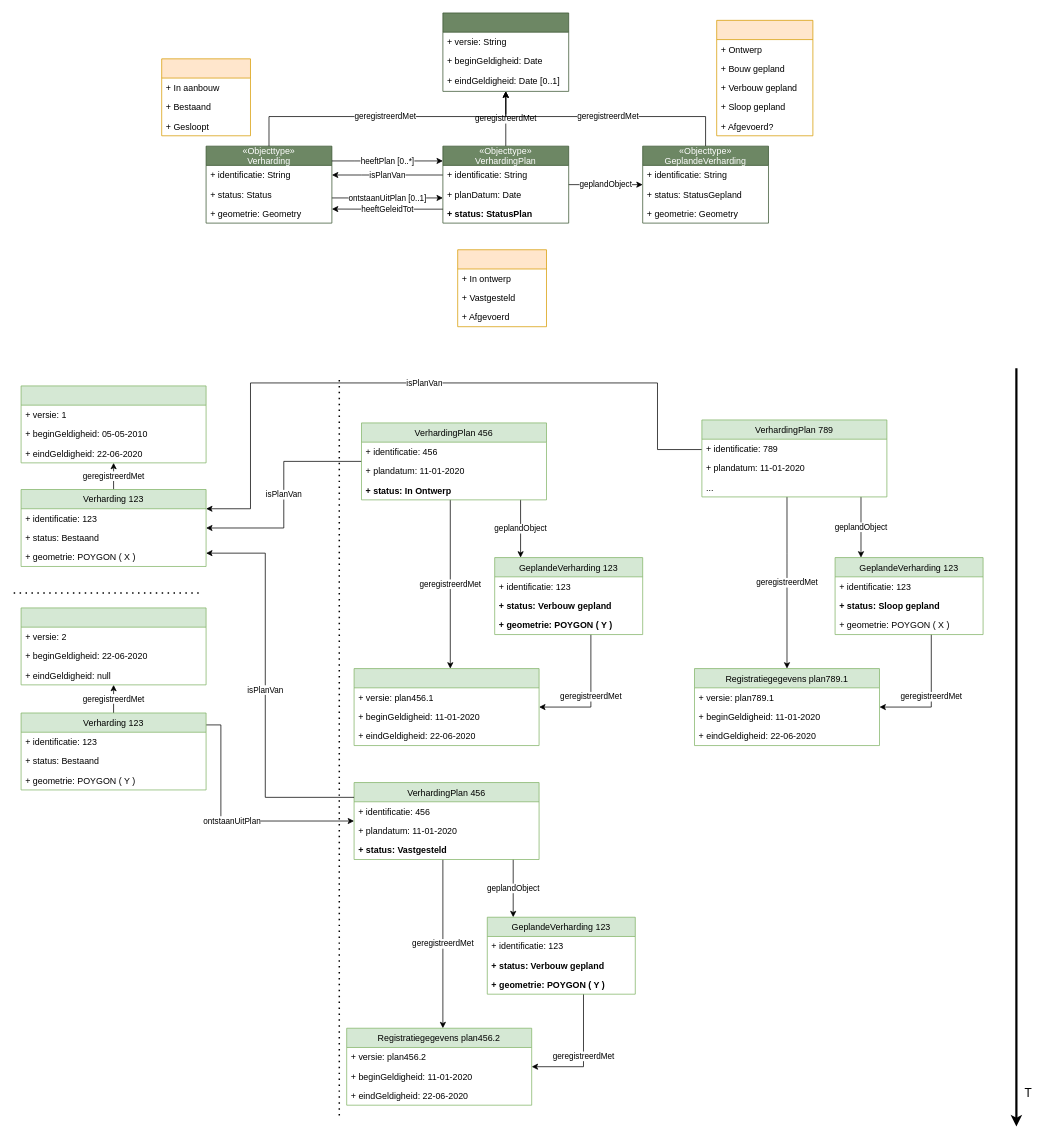
This 1044x1146 diagram has some shape labels left out. The box of each missing label's shape, as (x1, y1, x2, y2) in pixels:
Registratiegegevens 123.1: (20, 385, 206, 463)
Registratiegegevens 123.2: (20, 607, 206, 685)
Registratiegegevens plan456.1: (353, 668, 539, 746)
«Enumeratie» Status: (161, 58, 250, 136)
«Enumeratie» StatusGepland: (716, 20, 813, 136)
«Enumeratie» StatusPlan: (457, 249, 546, 327)
«Metadata» Registratiegegevens: (442, 12, 569, 91)
